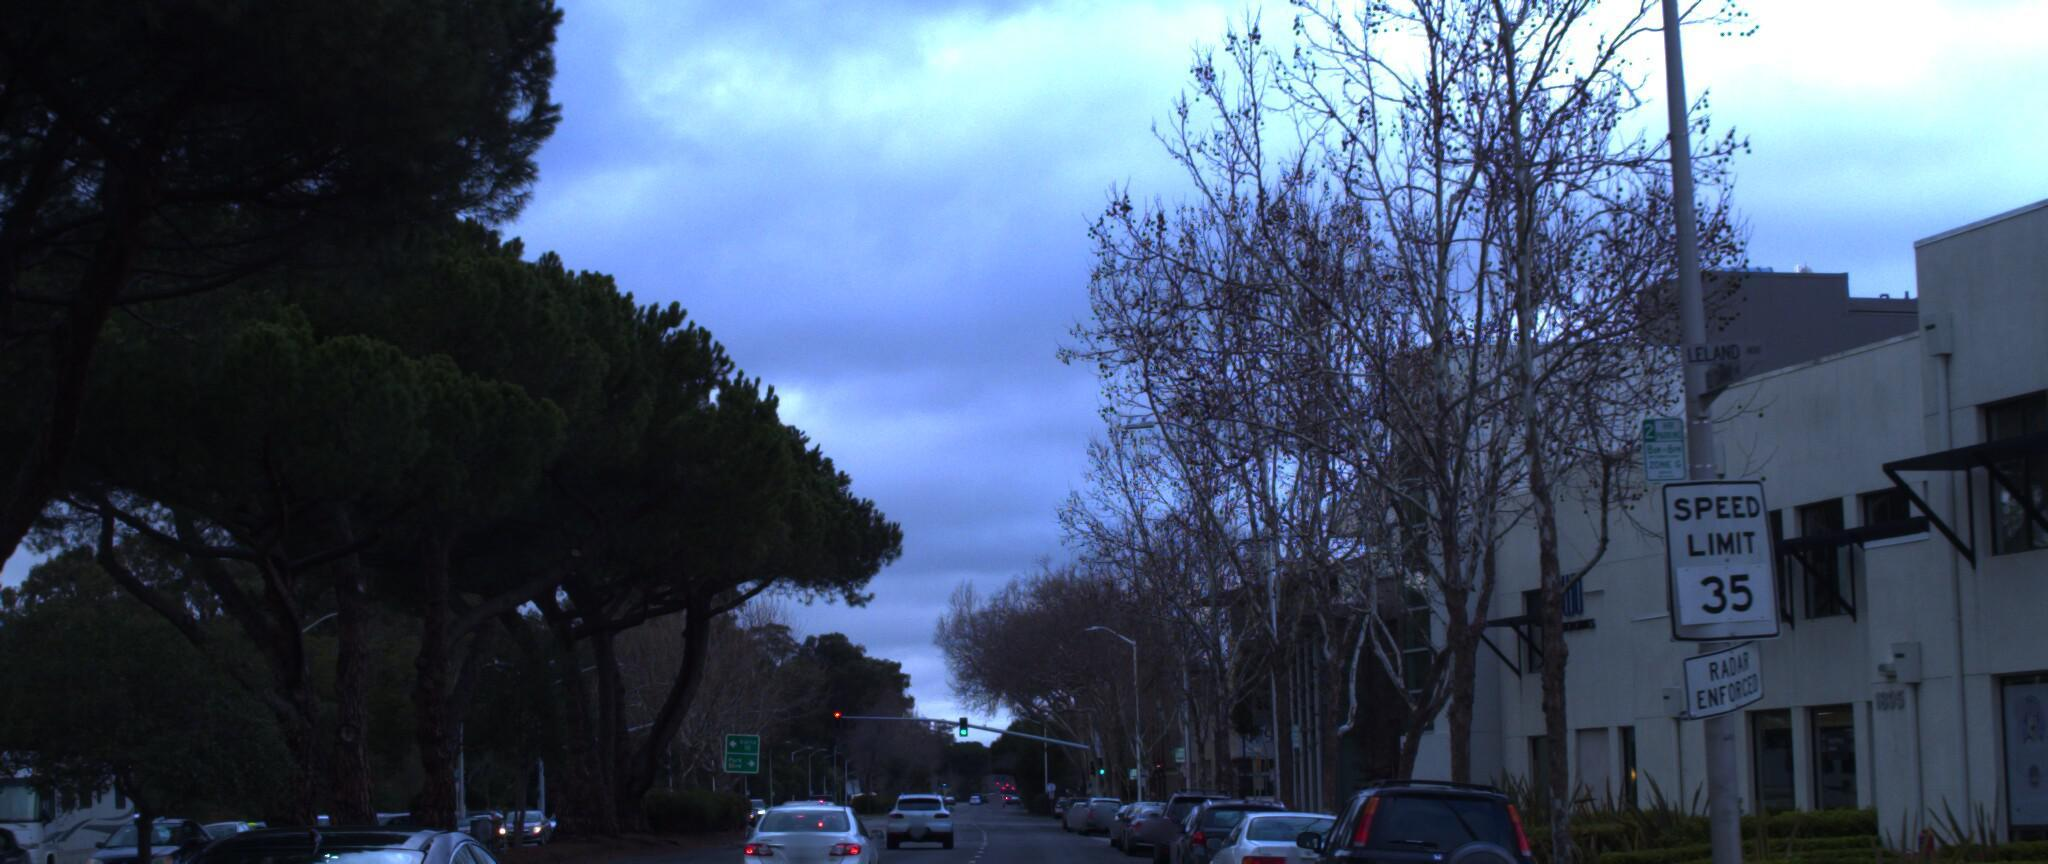car: (46, 803, 576, 864), (1288, 754, 1554, 864), (1186, 799, 1398, 864), (726, 794, 876, 864), (1172, 788, 1305, 864), (71, 820, 226, 864), (0, 817, 54, 864)
other_vehicle: (0, 728, 146, 864)
